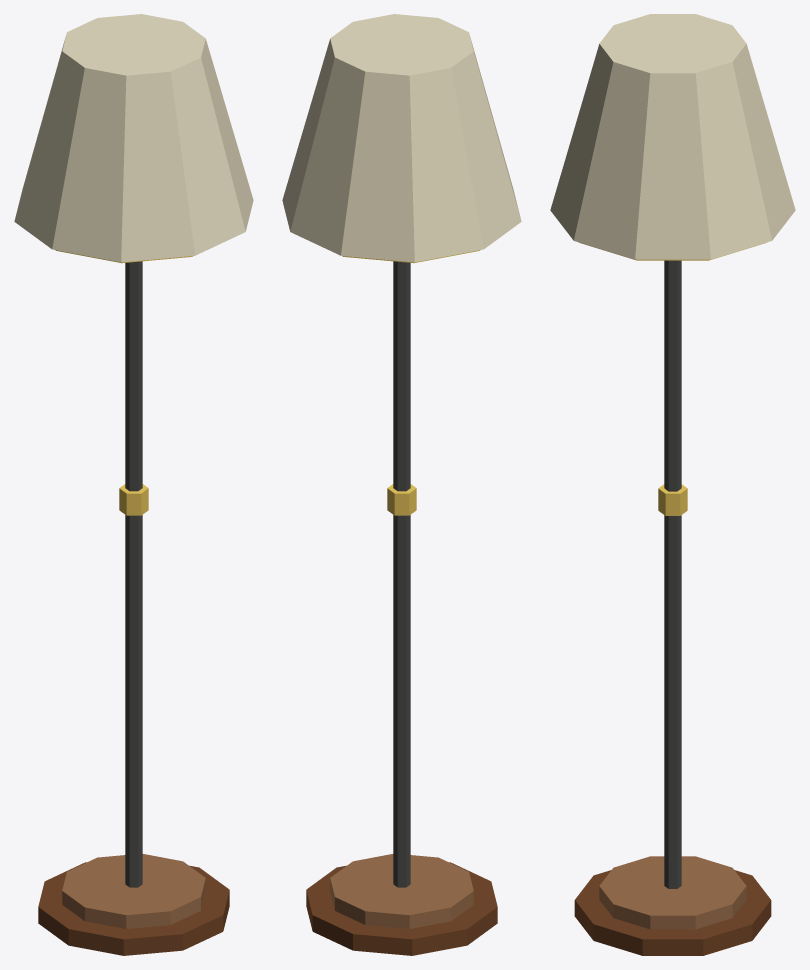
Rendered from floor_lamp.glb.
The picture shows the model from 3 angles, left to right: view 1: azimuth 30°, elevation 25°; view 2: azimuth 150°, elevation 25°; view 3: azimuth 270°, elevation 25°; orthographic projection.
Parts seen in each view (by area): view 1: floor_lamp; view 2: floor_lamp; view 3: floor_lamp.
Boxes of the visible parts, box(x1,y1,x2,y2) form: floor_lamp: box(14, 14, 253, 955); floor_lamp: box(282, 14, 521, 955); floor_lamp: box(550, 14, 795, 955).
Size of the model in its own units: 0.3804 by 1.57 by 0.4.
1 material, 1 textured.
